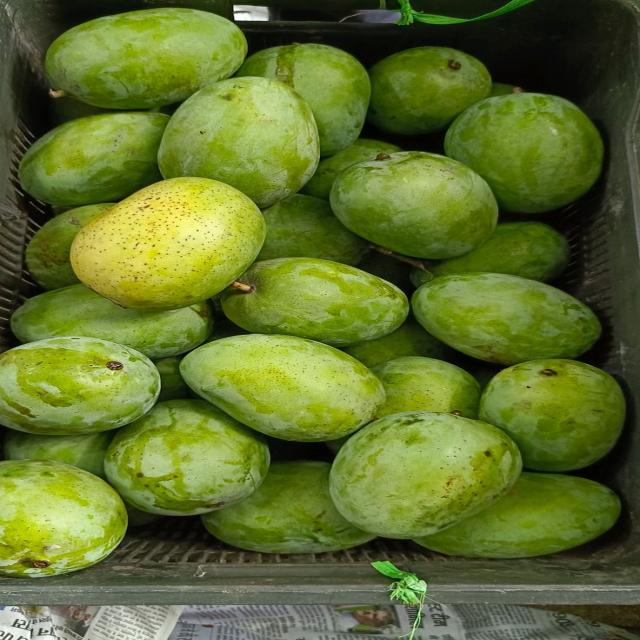mango: (71, 178, 265, 310), (330, 412, 520, 538), (181, 335, 384, 441), (159, 78, 319, 207), (46, 8, 246, 109), (106, 400, 269, 515), (446, 93, 602, 213), (331, 152, 497, 258), (416, 473, 620, 558), (412, 273, 600, 365), (221, 258, 408, 345), (480, 360, 625, 471), (202, 461, 373, 553), (0, 337, 159, 434), (236, 44, 370, 155), (12, 285, 213, 359), (0, 460, 126, 577), (19, 112, 168, 206), (368, 47, 491, 134), (411, 222, 569, 286), (257, 194, 368, 265), (26, 204, 114, 290), (373, 357, 479, 418), (300, 139, 400, 200), (3, 430, 113, 479), (343, 318, 447, 367), (357, 251, 413, 293), (49, 96, 109, 125), (154, 356, 189, 401), (124, 501, 162, 527), (488, 83, 523, 97)
